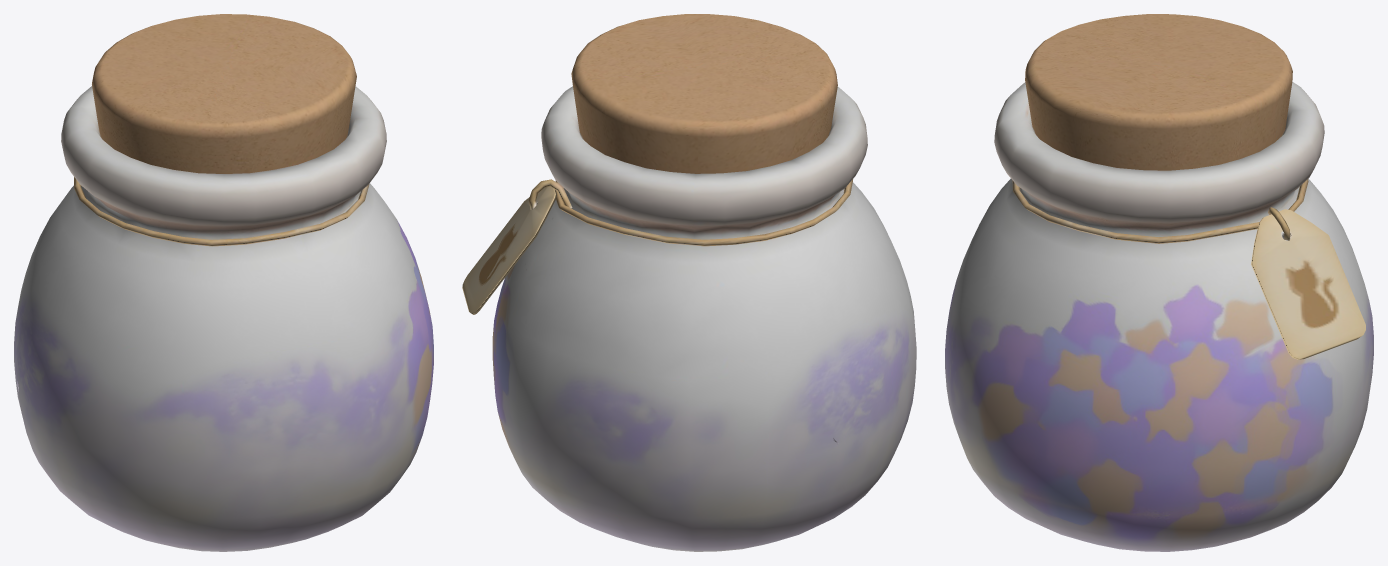
File: stardust-merchant-jar.glb
3 renders of one model, left to right at view 1: azimuth 30°, elevation 25°; view 2: azimuth 150°, elevation 25°; view 3: azimuth 270°, elevation 25°, orthographic.
Visible parts, largest first — view 1: tripo_node_2d7cb2ba-c0ba-4742-a45e-f60977bbe13d; view 2: tripo_node_2d7cb2ba-c0ba-4742-a45e-f60977bbe13d; view 3: tripo_node_2d7cb2ba-c0ba-4742-a45e-f60977bbe13d.
Boxes of the visible parts, <box> form: tripo_node_2d7cb2ba-c0ba-4742-a45e-f60977bbe13d: <box>14,14,433,551</box>; tripo_node_2d7cb2ba-c0ba-4742-a45e-f60977bbe13d: <box>462,14,916,551</box>; tripo_node_2d7cb2ba-c0ba-4742-a45e-f60977bbe13d: <box>945,14,1373,551</box>.
Size of the model in its own units: 0.8471 by 0.9995 by 0.8603.
1 material, 1 textured.
